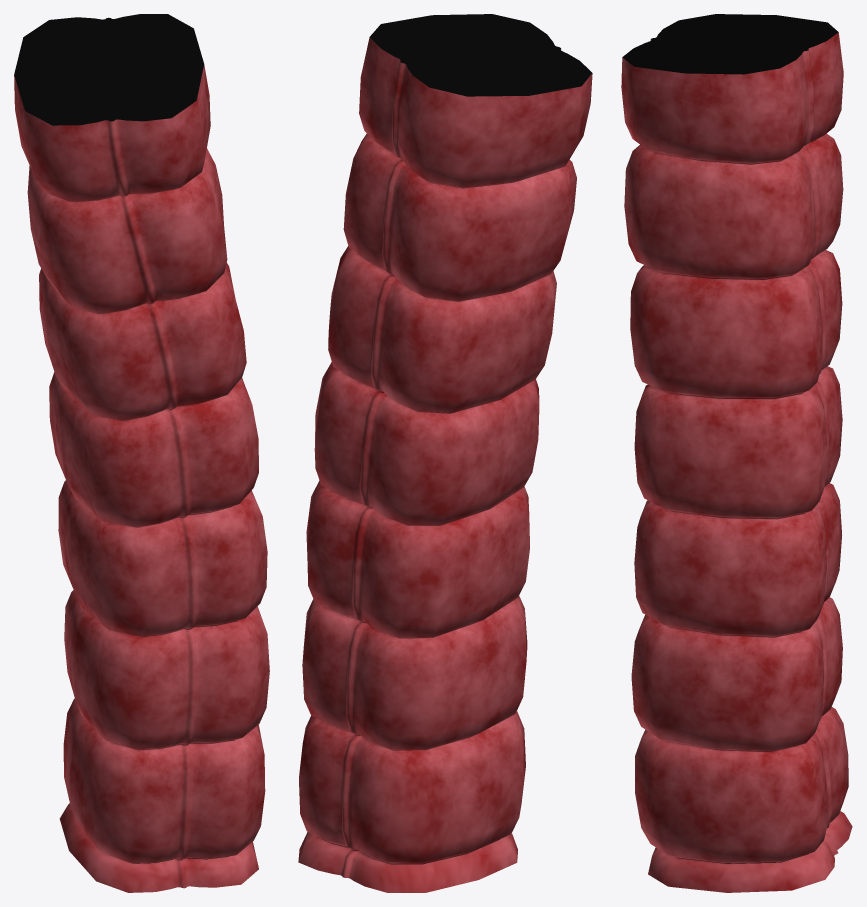
Rendered from Intestine.fbx.
The picture shows the model from 3 angles, left to right: view 1: azimuth 30°, elevation 25°; view 2: azimuth 150°, elevation 25°; view 3: azimuth 270°, elevation 25°; orthographic projection. The views are drawn at different scales.
Visible parts, largest first — view 1: Circle; view 2: Circle; view 3: Circle.
Part boxes in pixels (x1,y1,x2,y2): Circle: (14, 14, 269, 892); Circle: (298, 14, 592, 892); Circle: (621, 14, 852, 892).
Size of the model in its own units: 252 by 816 by 213.
